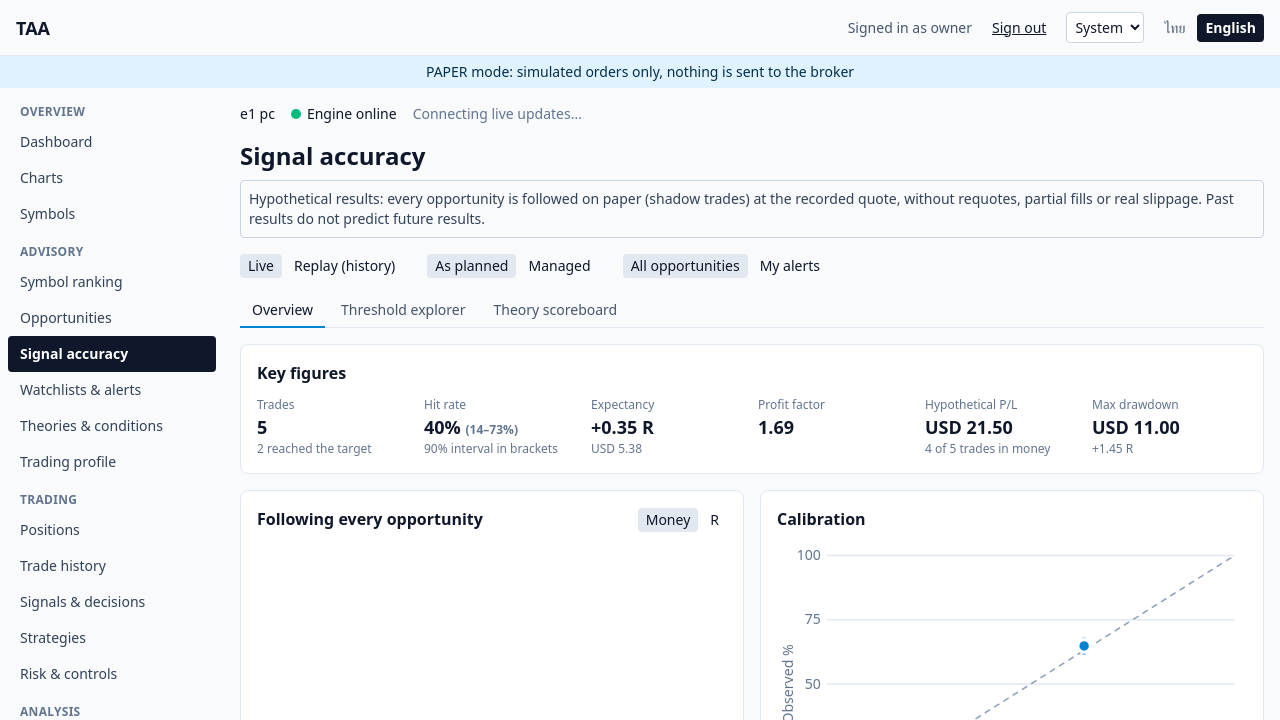
signal accuracy page › switches to replay results and to my alerts
Click the button "Replay (history)" at coordinates (345, 266), box x1=286 y1=254 x2=403 y2=278
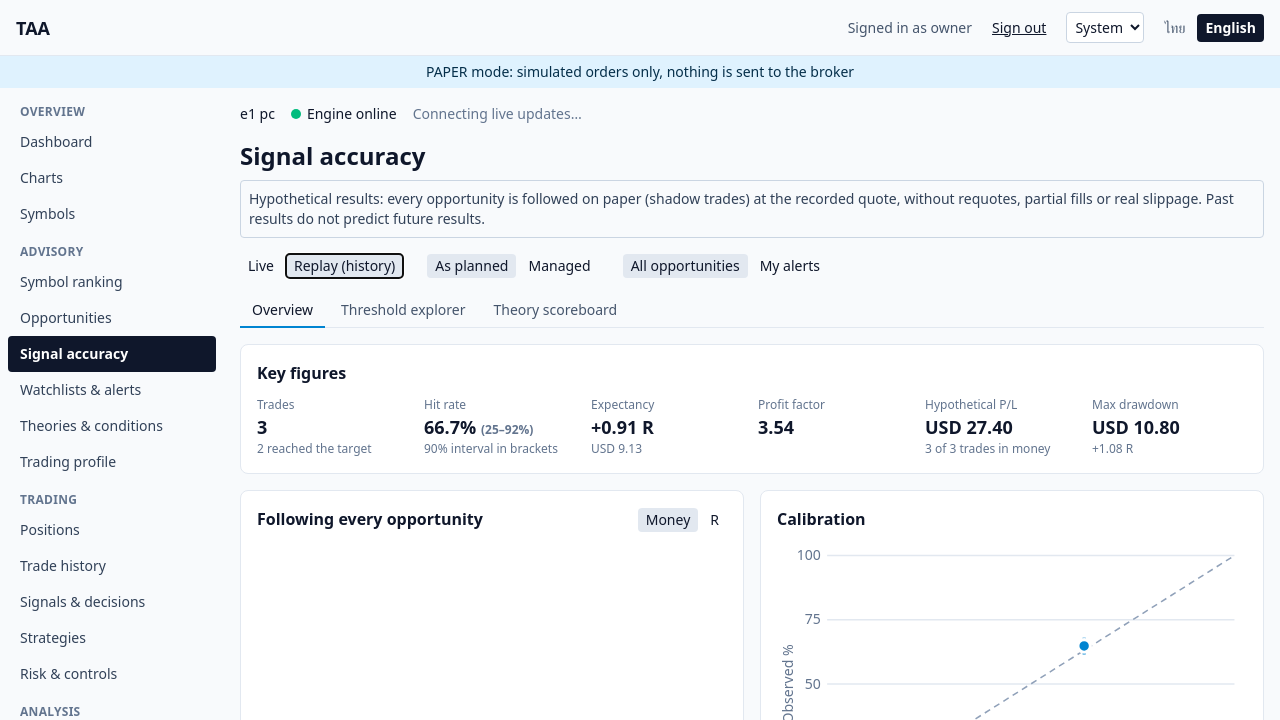
expect the text "3" is shown: met, box x1=257 y1=415 x2=267 y2=439
Click the button "My alerts" at coordinates (790, 266), box x1=752 y1=254 x2=828 y2=278
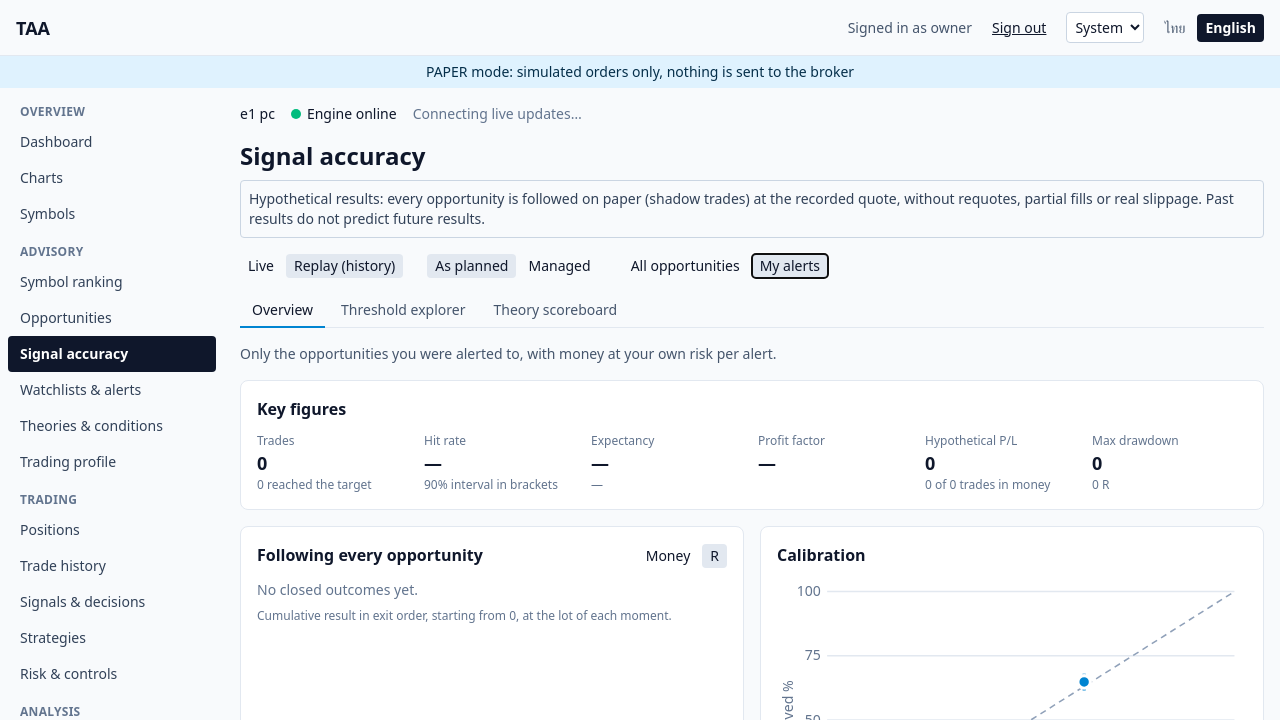
expect the text "Only the opportunities you were alerted to" is shown: met, box x1=240 y1=344 x2=776 y2=363
